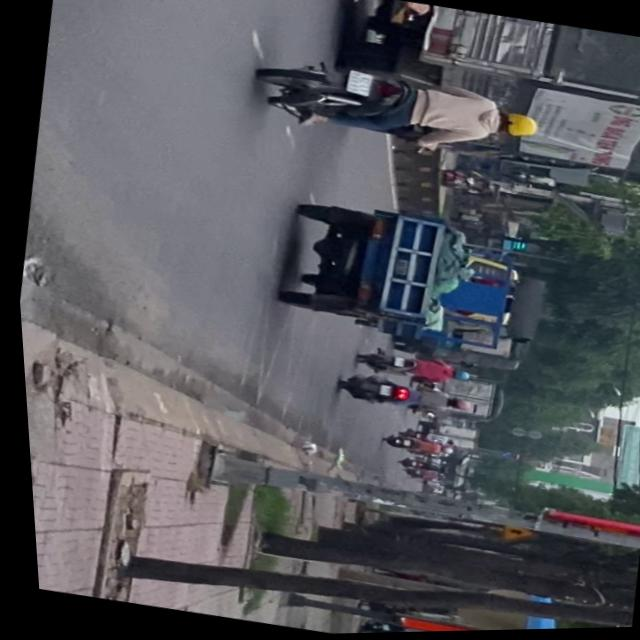helmet: (492, 110, 539, 142)
licenseplate: (246, 46, 545, 169)
nohelmet: (344, 71, 372, 98)
